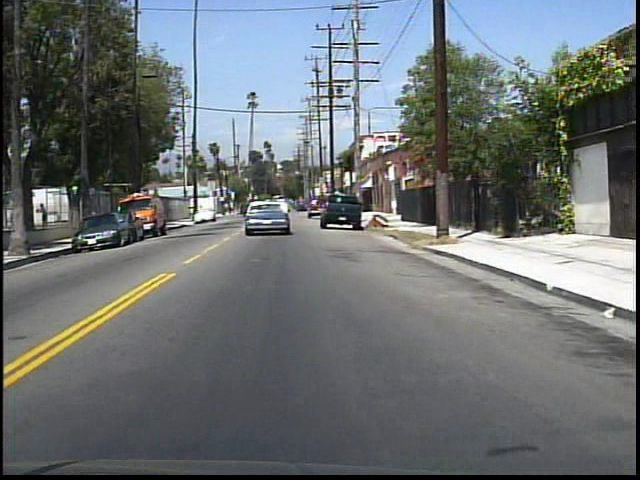person: (38, 202, 52, 230)
